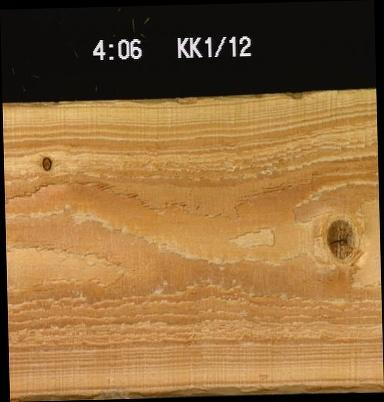dry_knot: (40, 154, 52, 171)
sound_knot: (323, 217, 357, 260)
wave: (9, 384, 383, 397), (117, 96, 205, 105), (2, 99, 80, 107)
